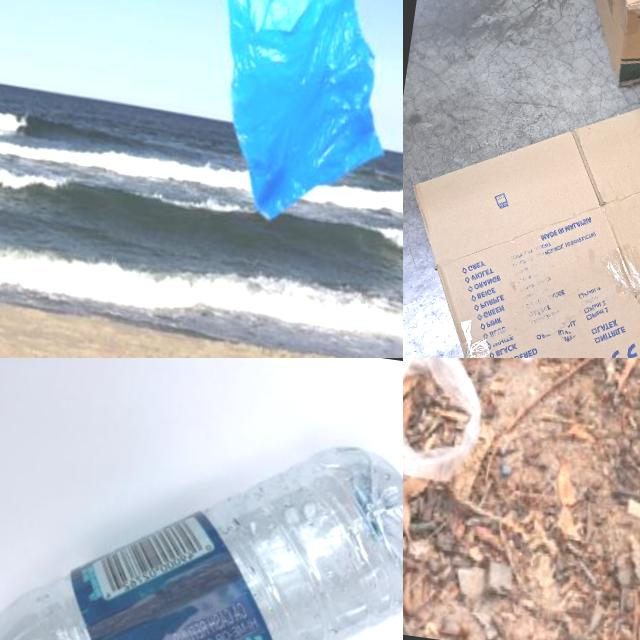garrafa plástica: (0, 388, 403, 640)
papelão: (403, 8, 640, 358)
sacola plástica: (189, 0, 403, 254), (403, 358, 574, 527)
